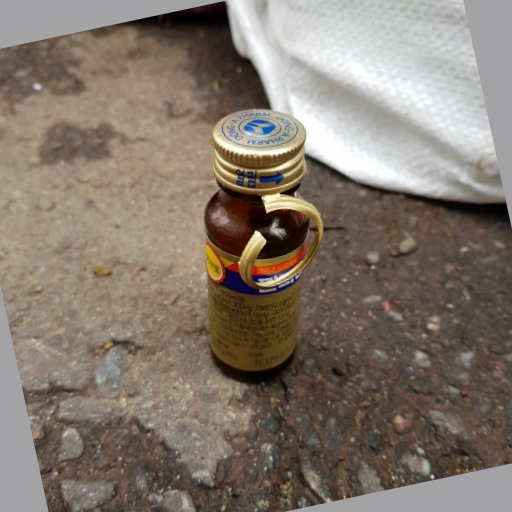Glass_3: (195, 107, 324, 383)
